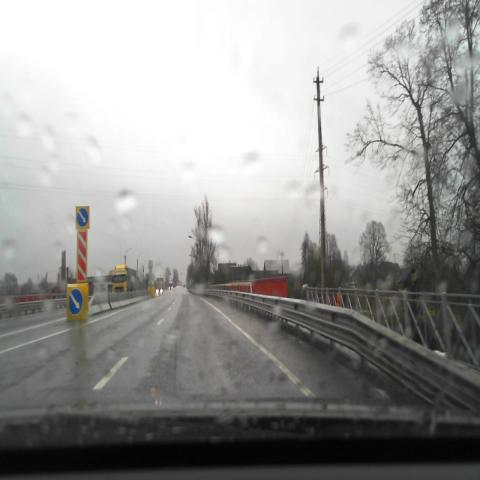4_2_1: (68, 289, 84, 315)
